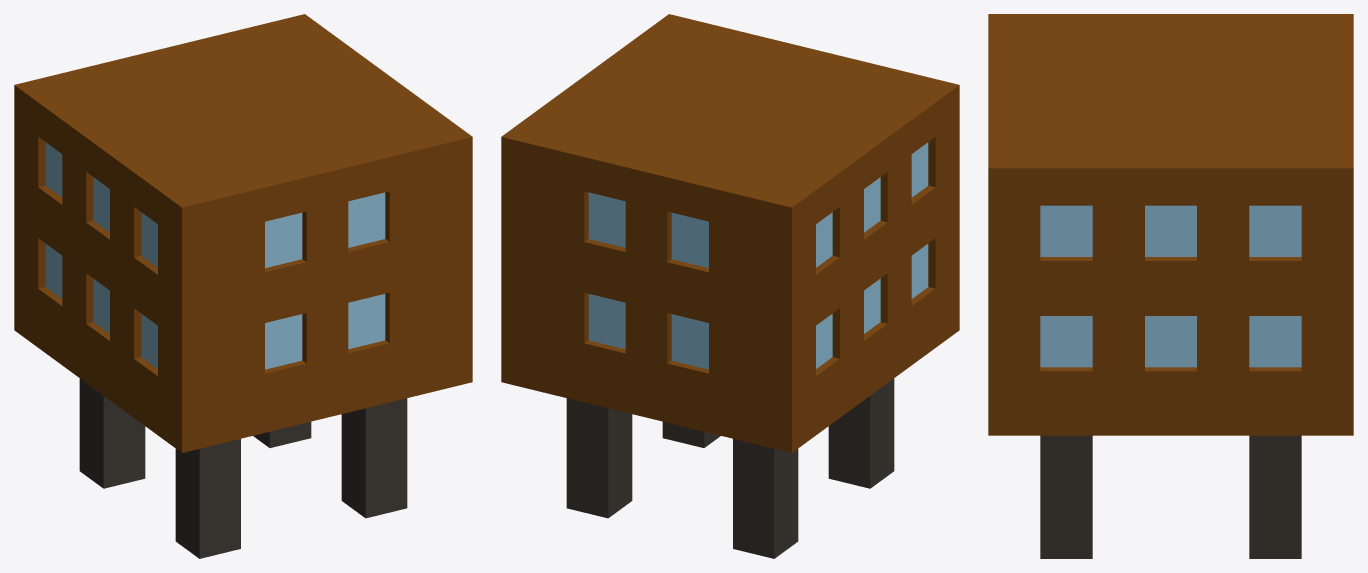
Rendered from lowTowerBase 1.fbx.
3 views of the same model, side by side, from view 1: azimuth 30°, elevation 25°; view 2: azimuth 150°, elevation 25°; view 3: azimuth 270°, elevation 25° (orthographic). The views are drawn at different scales.
Parts seen in each view (by area): view 1: pCube1; view 2: pCube1; view 3: pCube1.
Part boxes in pixels (x1,y1,x2,y2): pCube1: (14, 14, 472, 558); pCube1: (501, 14, 959, 558); pCube1: (988, 14, 1353, 558).
Size of the model in its own units: 10 by 12.46 by 10.
Materials: 1 (1 with a texture image).
